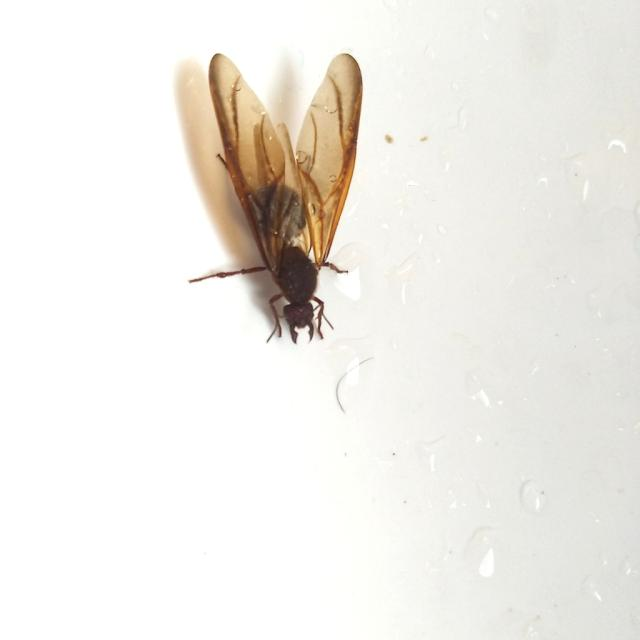Alive-Female-Alate: (188, 53, 363, 345)
